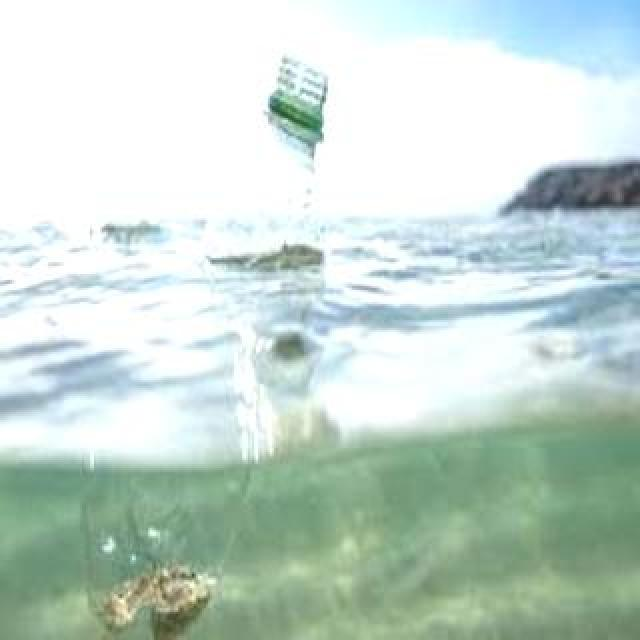Pet_Bottle: (71, 52, 347, 640)
